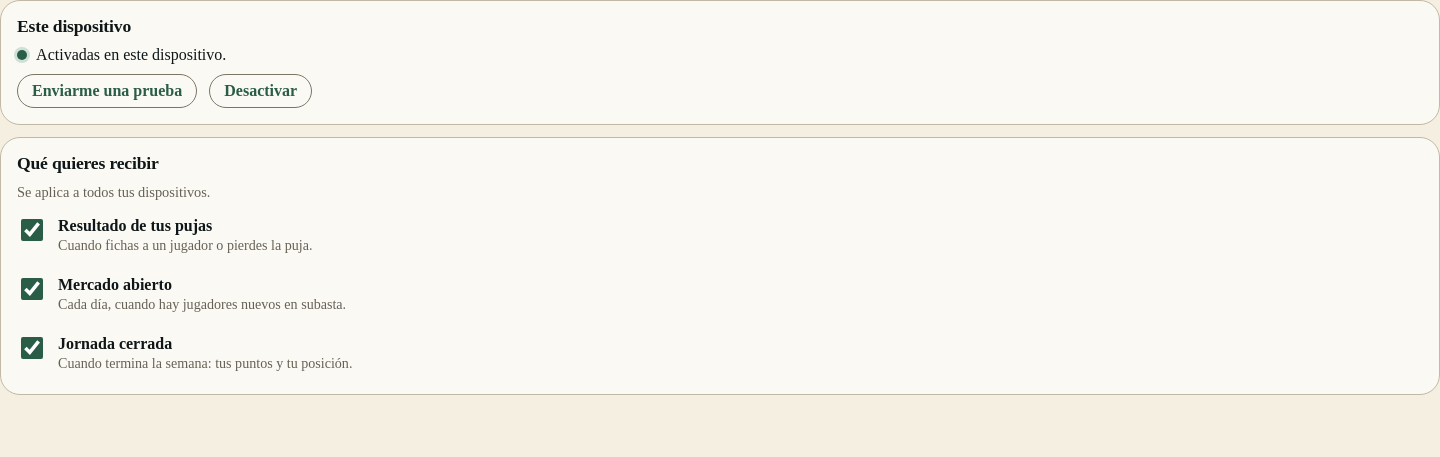
Test: NotificationSettings › a test that reaches nobody does not claim success
Click the button "Enviarme una prueba": (107, 91) x1=17 y1=74 x2=197 y2=108
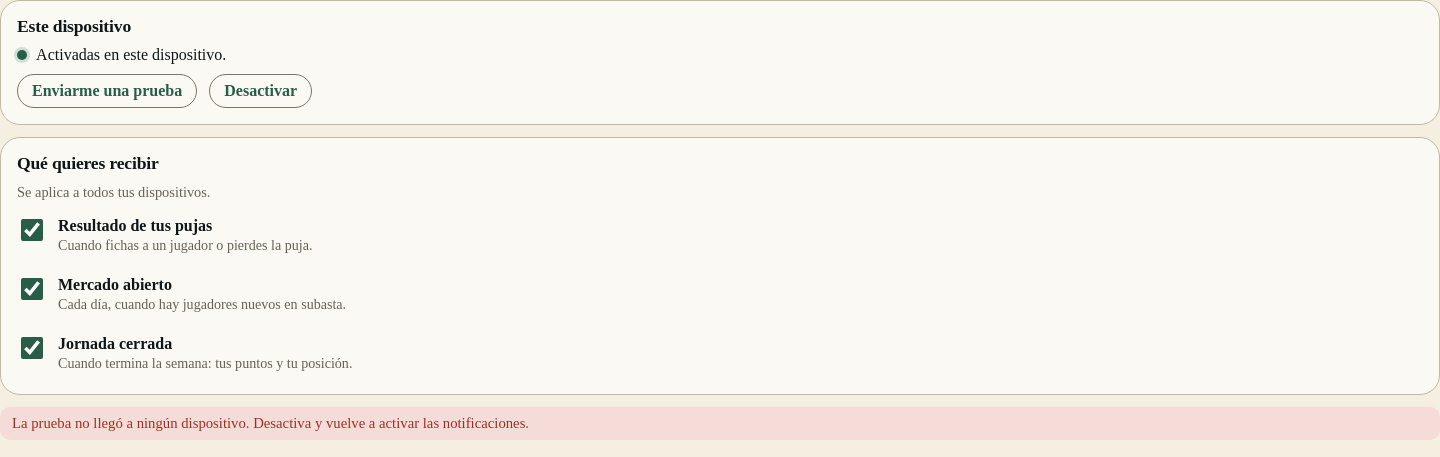
expect the message shows "no llegó a ningún dispositivo": met, box x1=12 y1=415 x2=529 y2=431
